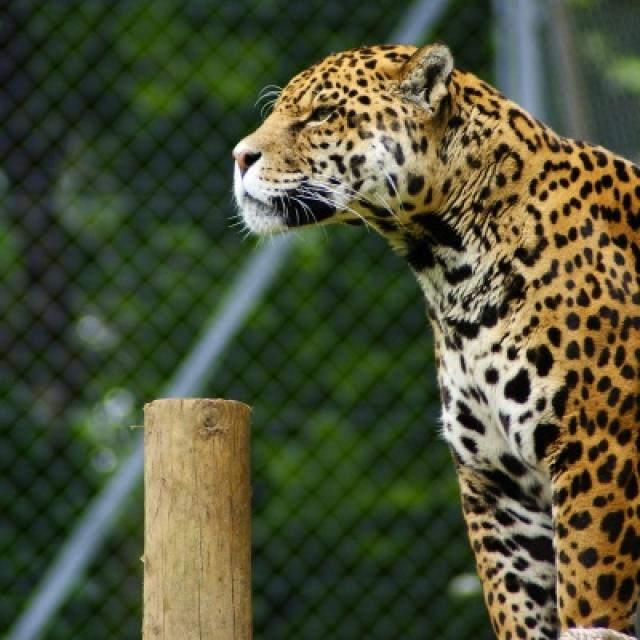Jaguar: (232, 43, 638, 638)
